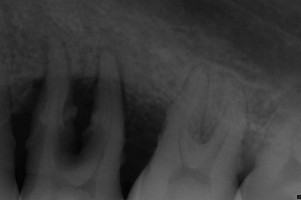Endo-Periodontal Lesion: (63, 76, 96, 158)
